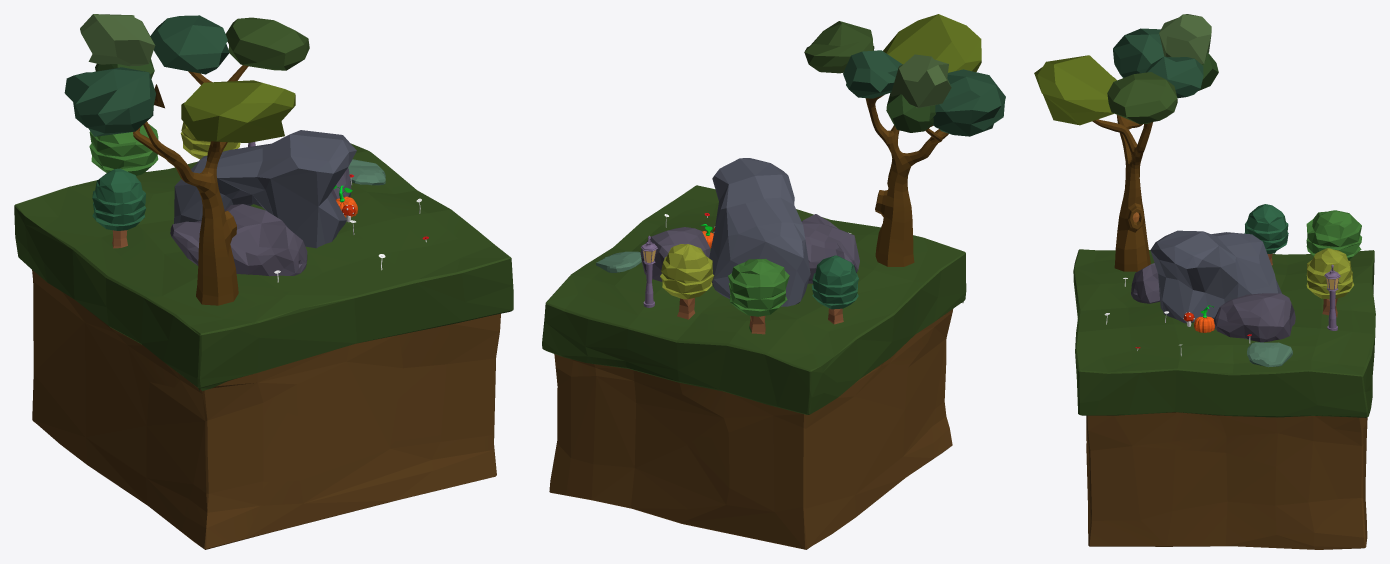
The model's file is tile_boulders.min.gltf.
3 views of the same model, side by side, from view 1: azimuth 30°, elevation 25°; view 2: azimuth 150°, elevation 25°; view 3: azimuth 270°, elevation 25° (orthographic). The views are drawn at different scales.
Parts seen in each view (by area): view 1: CENTERED.020; view 2: CENTERED.020; view 3: CENTERED.020.
Part boxes in pixels (x1,y1,x2,y2): CENTERED.020: (14,14,513,549); CENTERED.020: (542,14,1005,549); CENTERED.020: (1034,14,1375,549).
Bounding box in the file's own units: 1.33 × 1.61 × 1.23.
